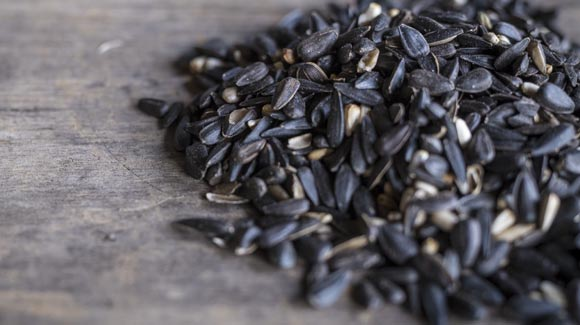seed: (234, 10, 565, 234)
